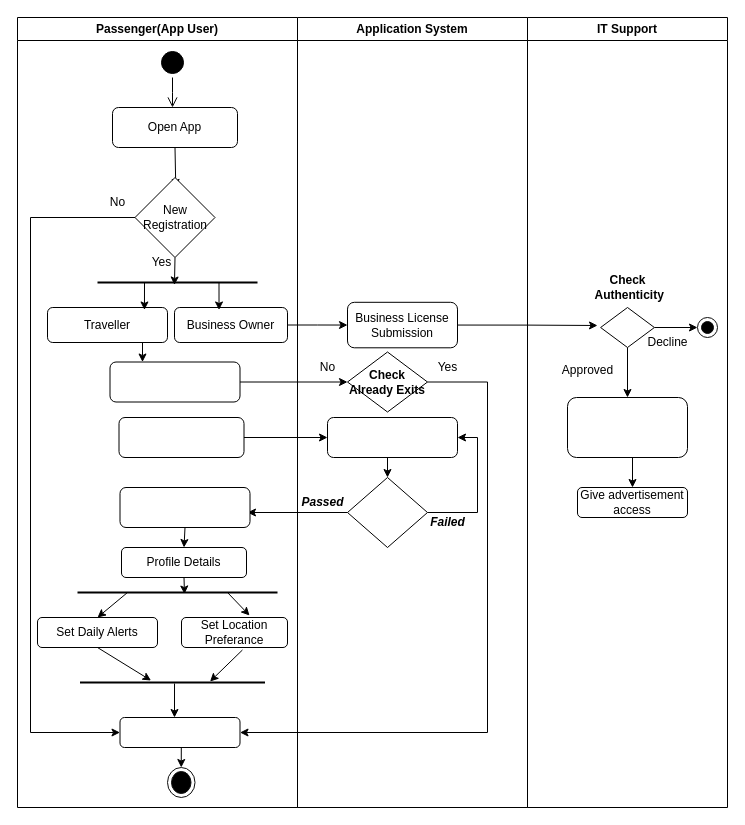
Image size: 745x825. Some labels were removed from this diagram. Here are the shapes that lost their labels. From the top down, the centre of each, then its label:
(x=174, y=381): Enter Email
(x=181, y=437): Enter Mobile Number
(x=392, y=437): Generate Random One Time Password
(x=627, y=427): Create Business Profile
(x=184, y=507): Create Password
(x=387, y=512): Authenticate
(x=179, y=732): Sign In
